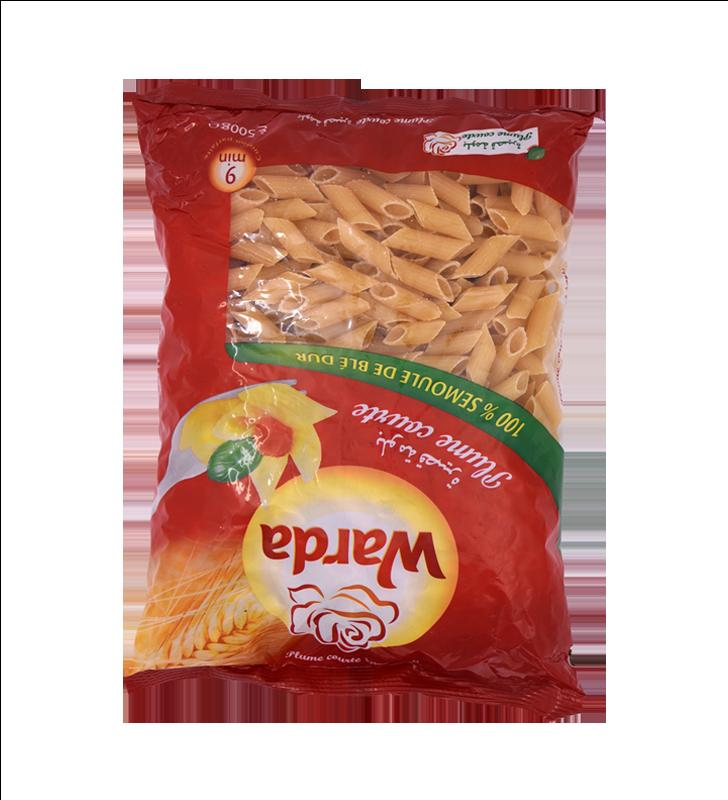plume: (128, 94, 597, 715)
